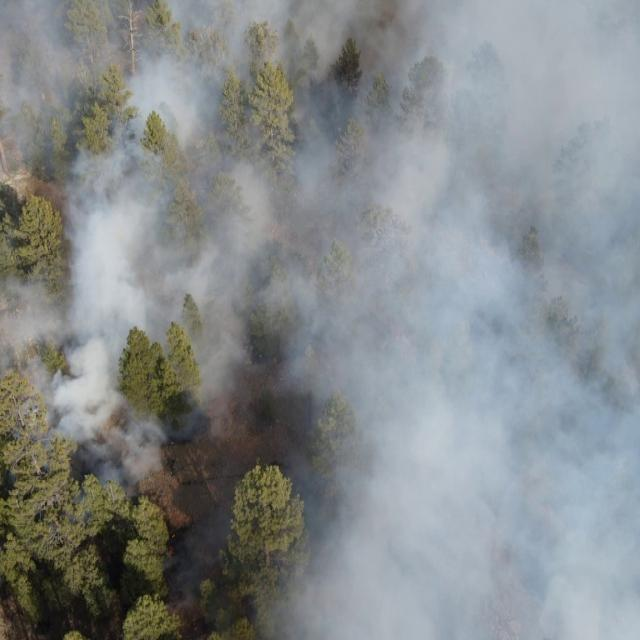fire: (168, 532, 177, 558)
smoke: (194, 0, 640, 640), (62, 0, 192, 341), (0, 275, 119, 536), (0, 0, 62, 199), (120, 391, 192, 489), (161, 523, 194, 617)
